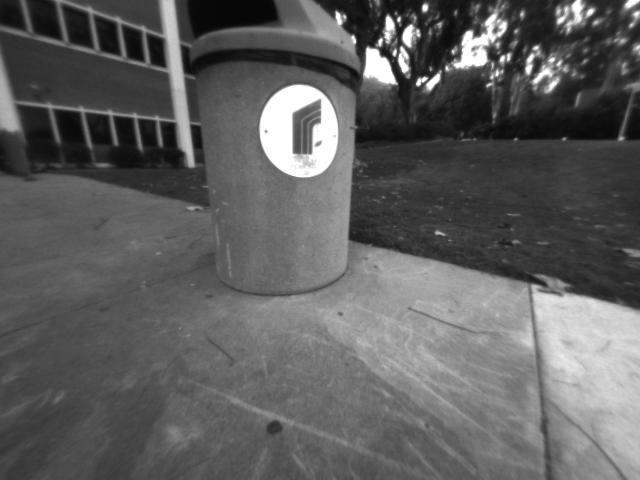trashcan: (179, 1, 382, 305)
